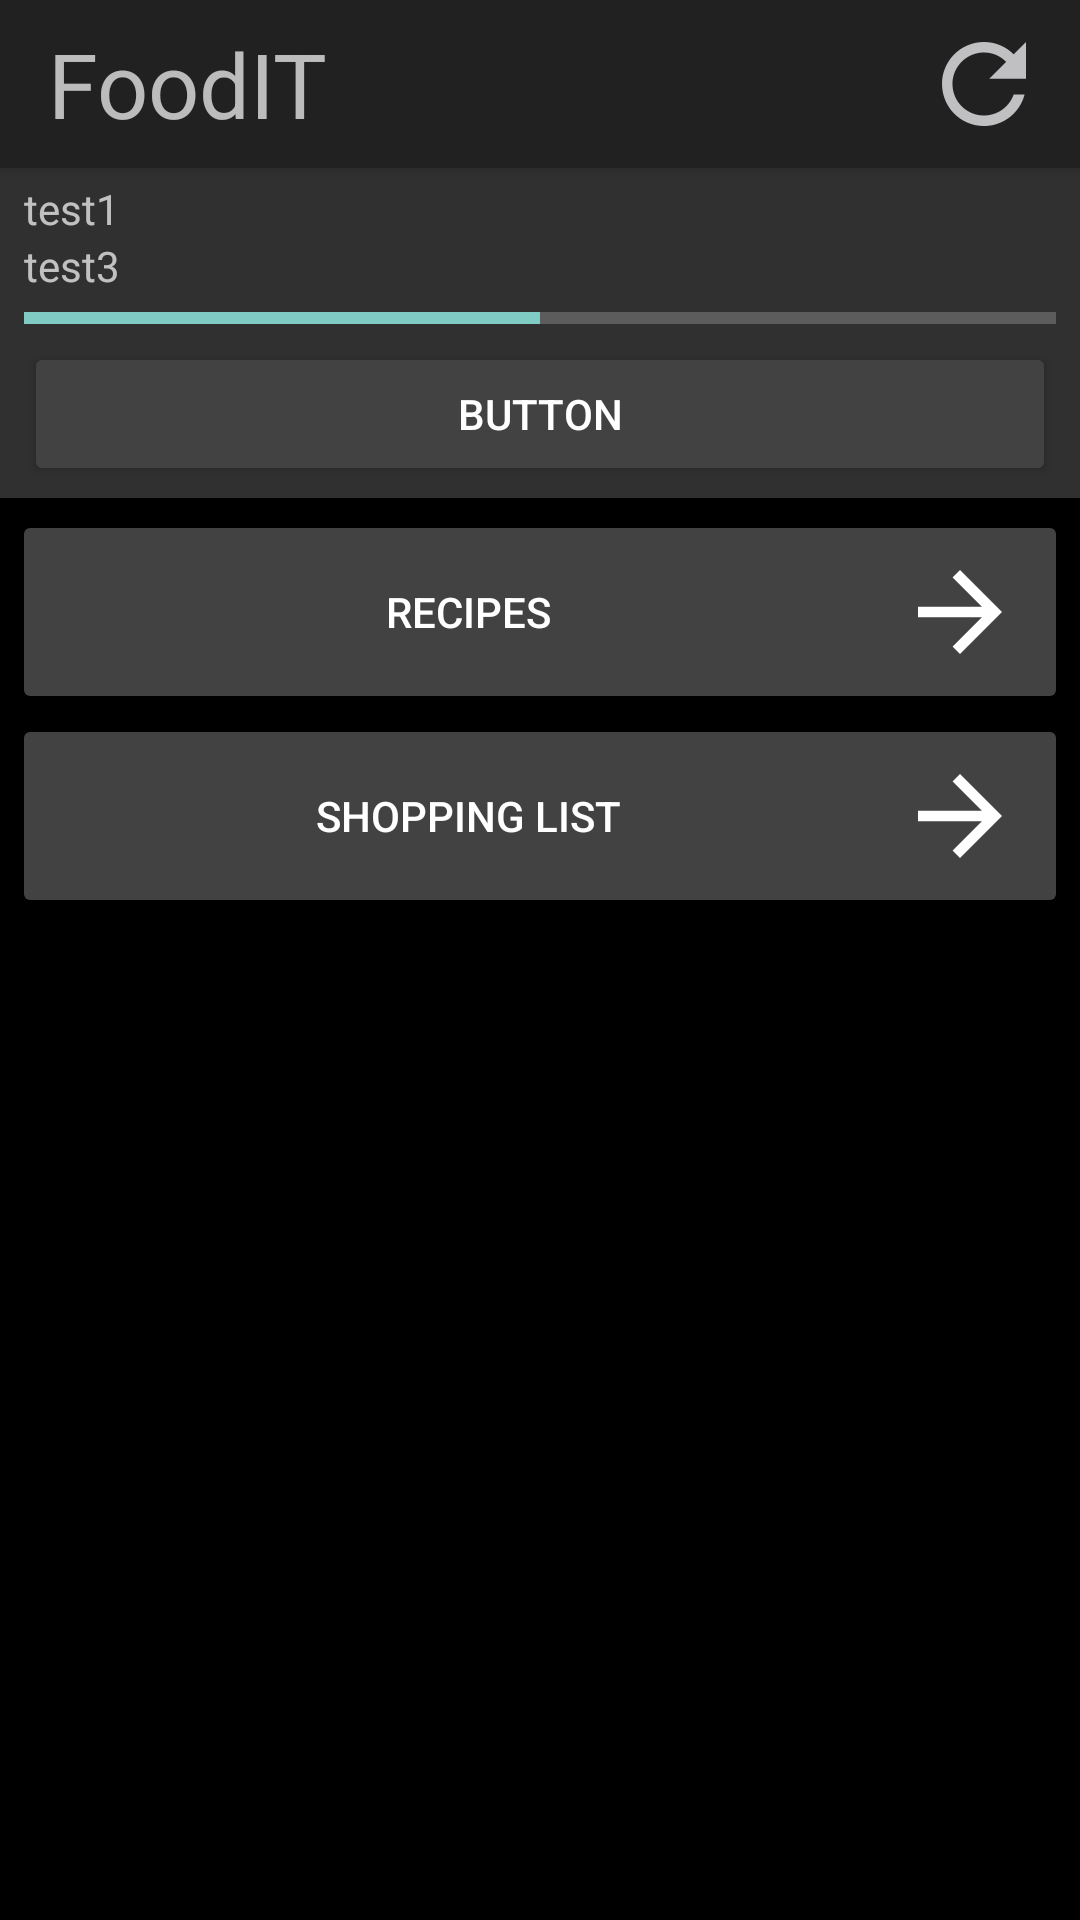

Icons on this 1080*1920 Android screen, each with the point to tap as (x,y):
Refresh Database: (984,84)
